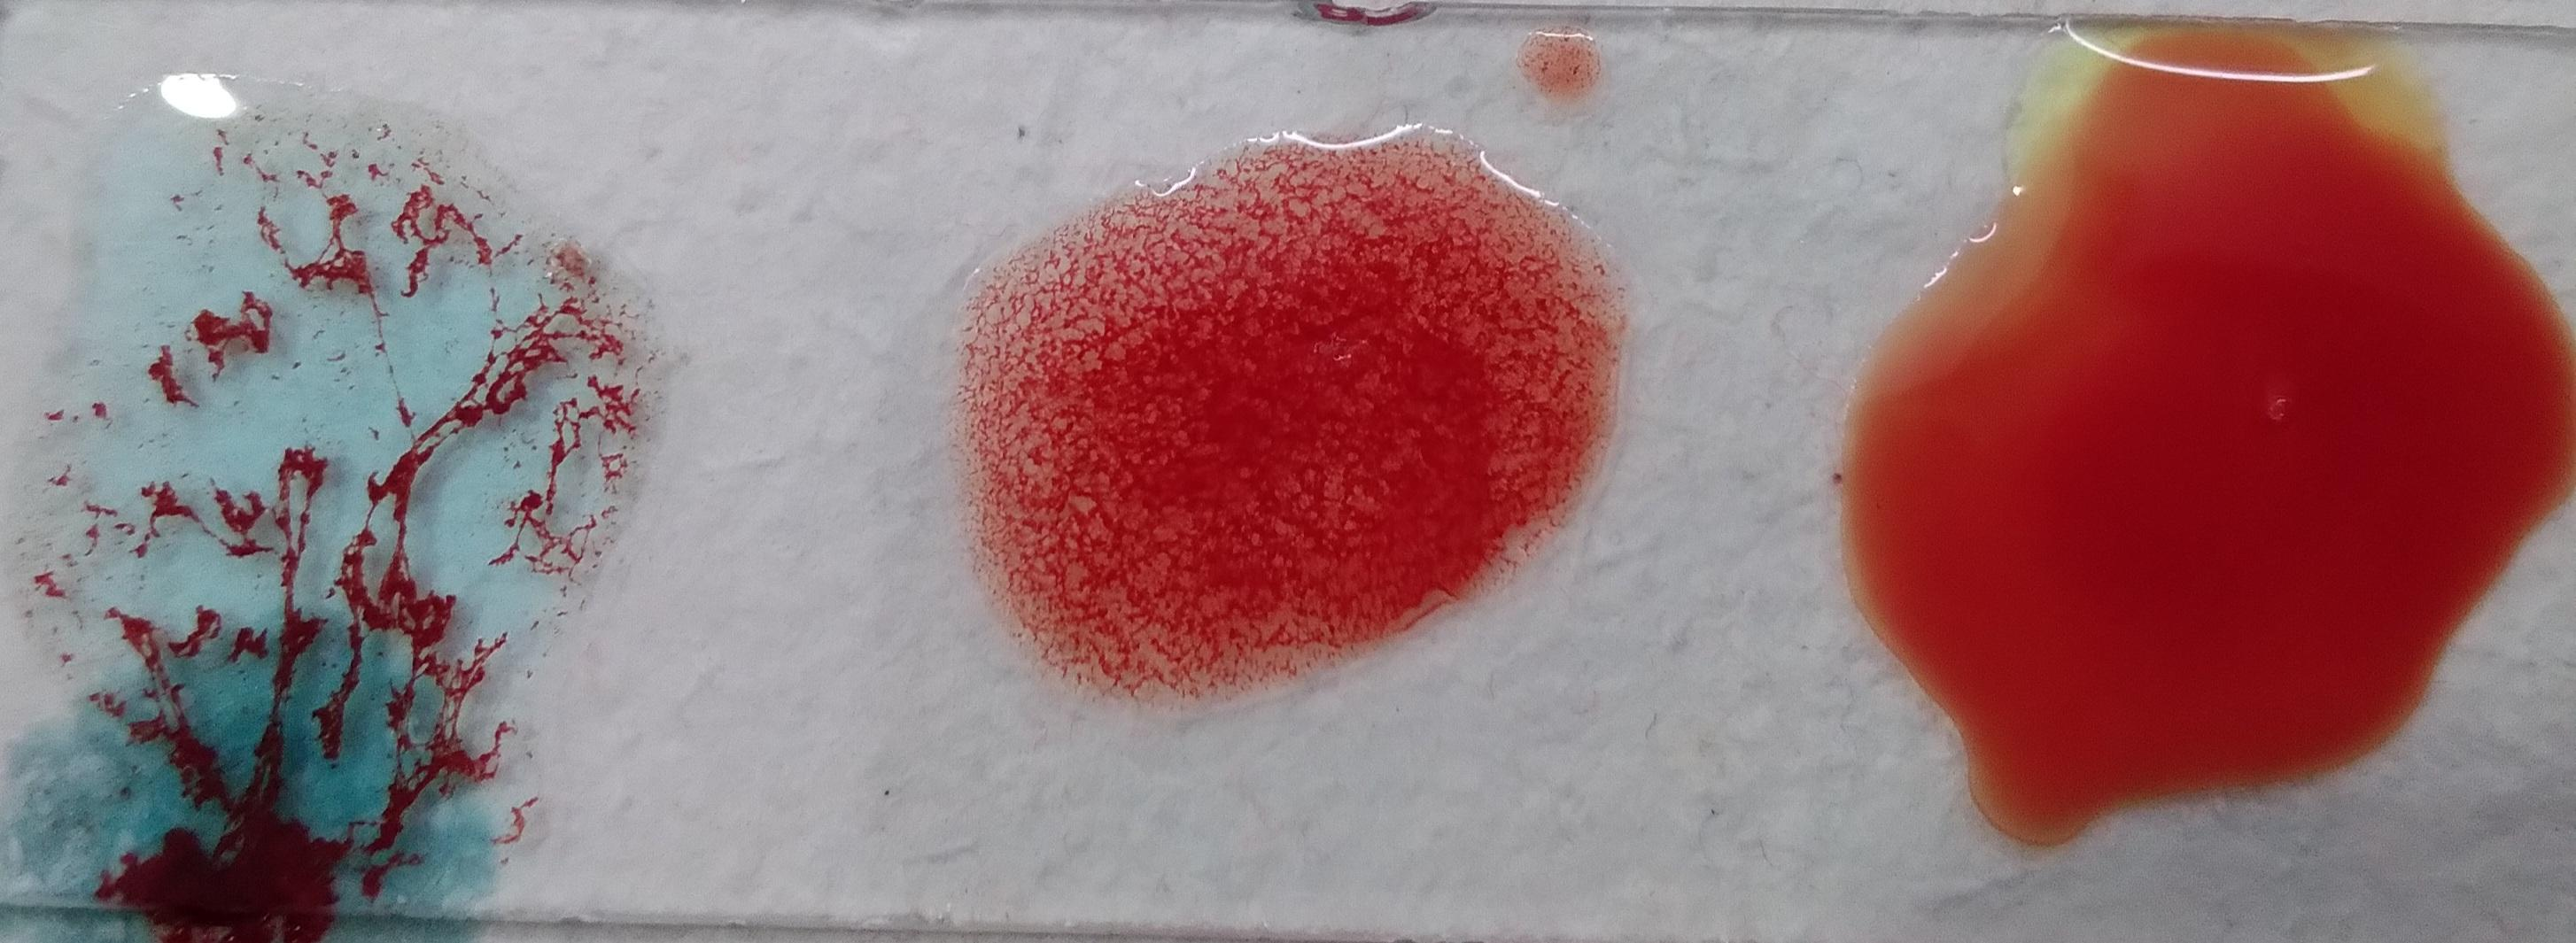A: (1914, 15, 2548, 841)
D: (963, 266, 1554, 787)
